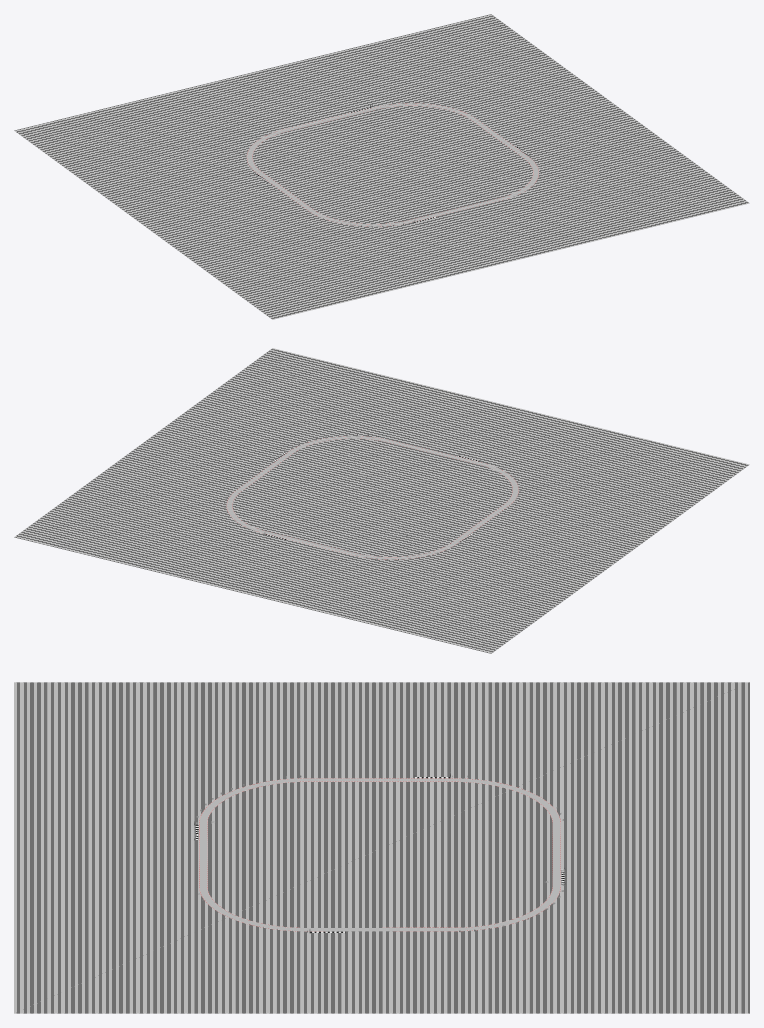
File: square_track_test.FBX
3 renders of one model, top to bottom at view 1: azimuth 30°, elevation 25°; view 2: azimuth 150°, elevation 25°; view 3: azimuth 270°, elevation 25°, orthographic. The views are drawn at different scales.
Visible parts, largest first — view 1: ground, road, road_side; view 2: ground, road, road_side; view 3: ground, road, road_side.
Boxes of the visible parts, bbox=[...] form: ground: bbox=[14, 14, 749, 319]; road: bbox=[247, 103, 538, 226]; road_side: bbox=[246, 103, 538, 226]; ground: bbox=[14, 348, 749, 653]; road: bbox=[227, 436, 518, 559]; road_side: bbox=[226, 436, 518, 559]; ground: bbox=[14, 682, 749, 1013]; road: bbox=[199, 778, 560, 931]; road_side: bbox=[199, 778, 560, 931].
Bounding box in the file's own units: 2215 × 12.21 × 2079.
